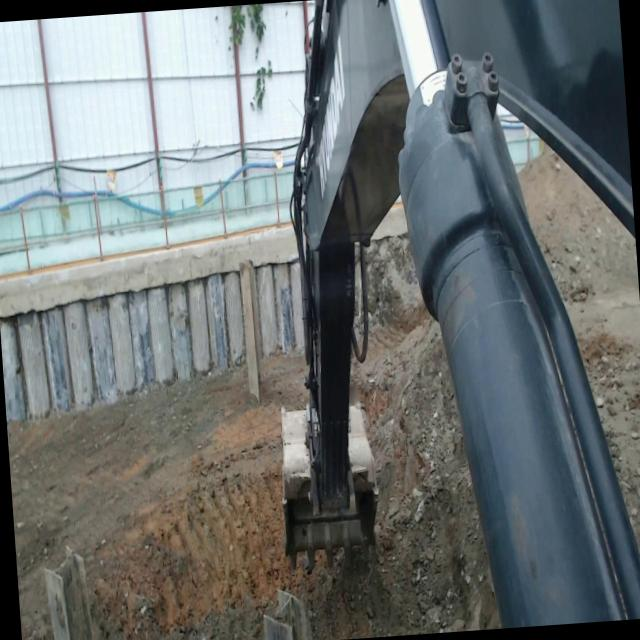red-sand: (7, 358, 412, 640), (357, 320, 500, 635)
